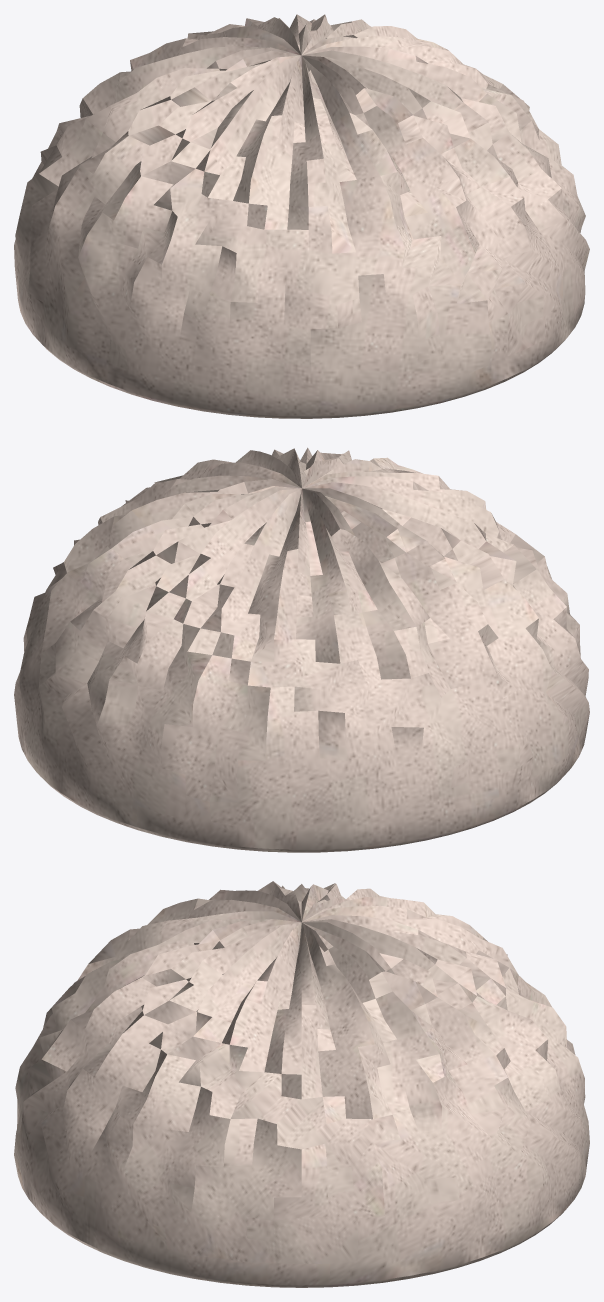
Rendered from brain.glb.
3 renders of one model, top to bottom at view 1: azimuth 30°, elevation 25°; view 2: azimuth 150°, elevation 25°; view 3: azimuth 270°, elevation 25°, orthographic.
Parts seen in each view (by area): view 1: dome; view 2: dome; view 3: dome.
Boxes of the visible parts, x1,y1,x2,y2 form: dome: (14,14,589,418); dome: (14,447,589,852); dome: (14,881,589,1287).
Bounding box in the file's own units: 1 × 0.489 × 1.
Materials: 1 (1 with a texture image).
